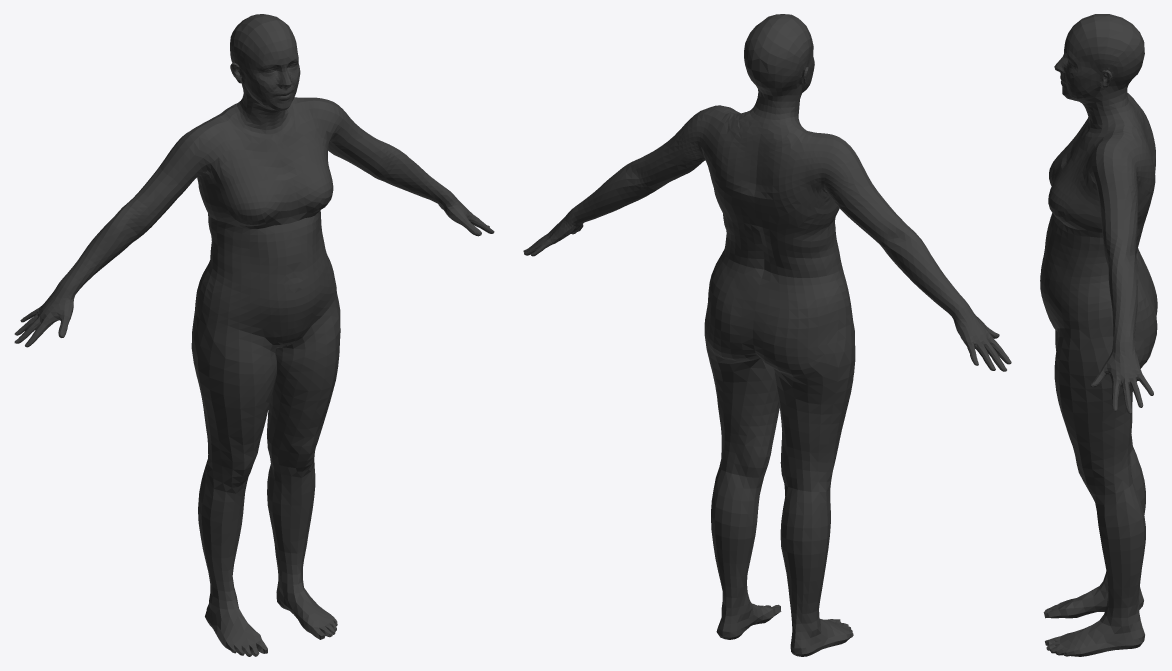
Rendered from f_smpl_average_A40.glb.
3 renders of one model, left to right at view 1: azimuth 30°, elevation 25°; view 2: azimuth 150°, elevation 25°; view 3: azimuth 270°, elevation 25°, orthographic. The views are drawn at different scales.
Visible parts, largest first — view 1: f_smpl_average_A40.obj; view 2: f_smpl_average_A40.obj; view 3: f_smpl_average_A40.obj.
Part boxes in pixels (<box>): f_smpl_average_A40.obj: <box>14,14,494,656</box>; f_smpl_average_A40.obj: <box>523,14,1011,656</box>; f_smpl_average_A40.obj: <box>1040,14,1157,656</box>.
Size of the model in its own units: 1.35 by 1.66 by 0.287.
1 material, 1 textured.
